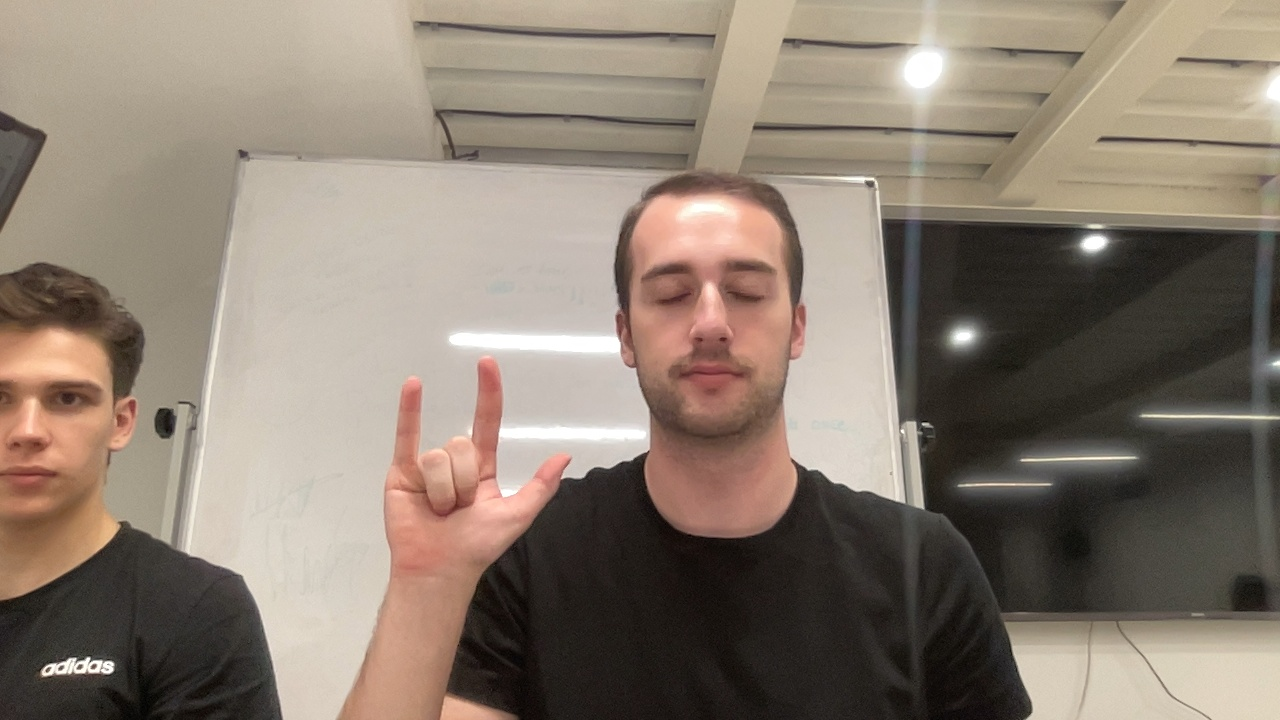I Love You: (377, 347, 578, 590)
